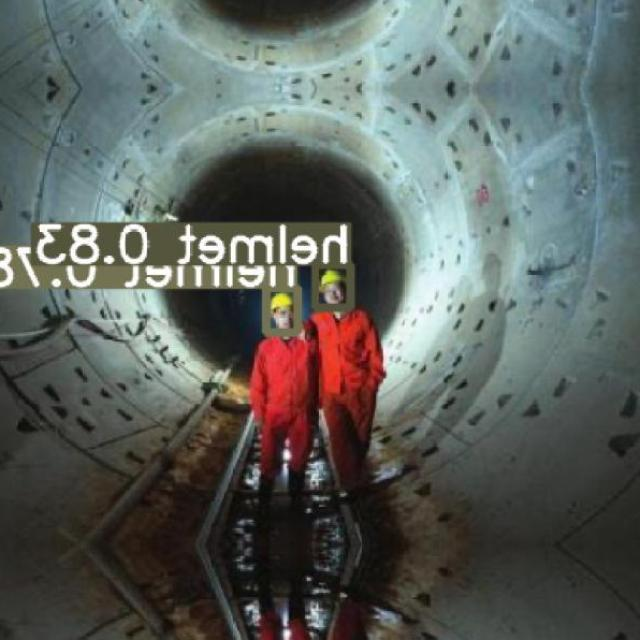helmet: (320, 270, 346, 291), (271, 292, 294, 310)
